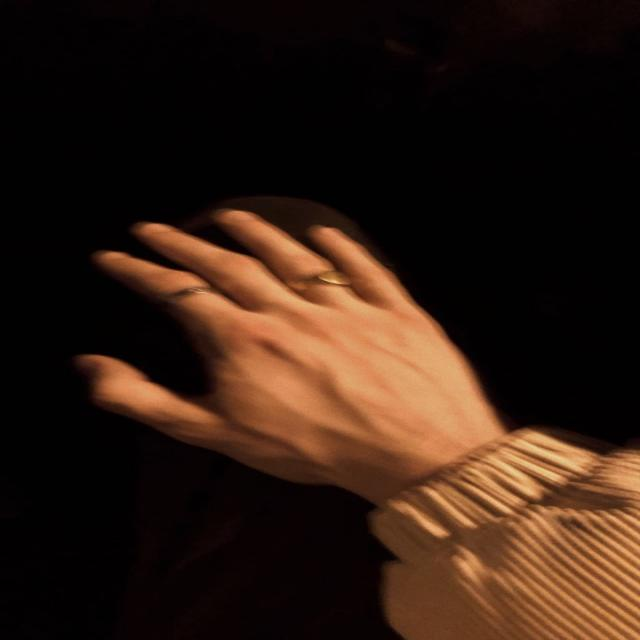bare_hand: (77, 208, 510, 505)
